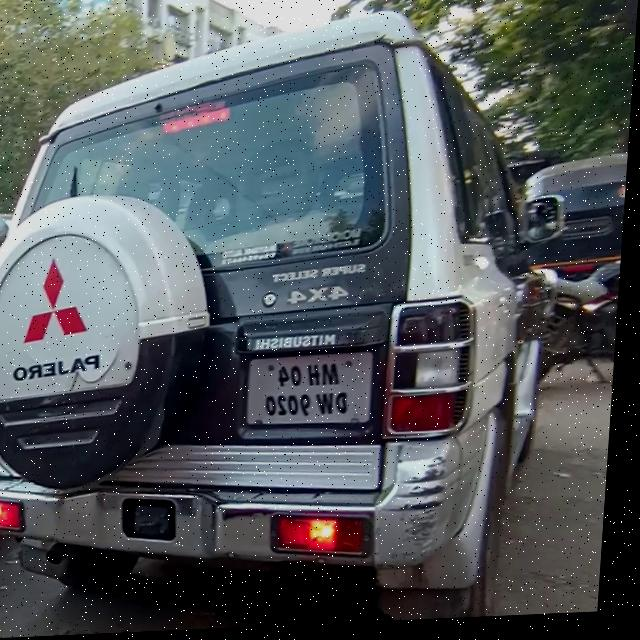plate: (248, 351, 381, 434)
